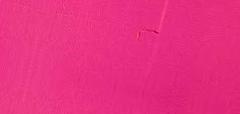snag: (134, 23, 163, 44)
